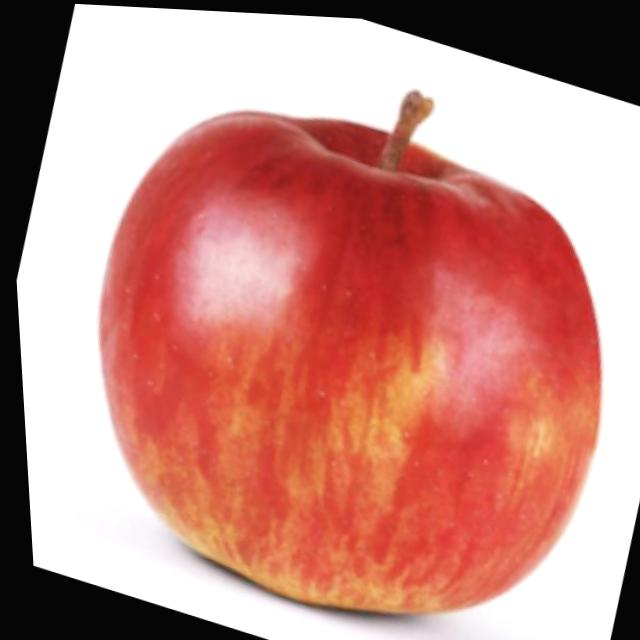Apple: (19, 1, 640, 640)
